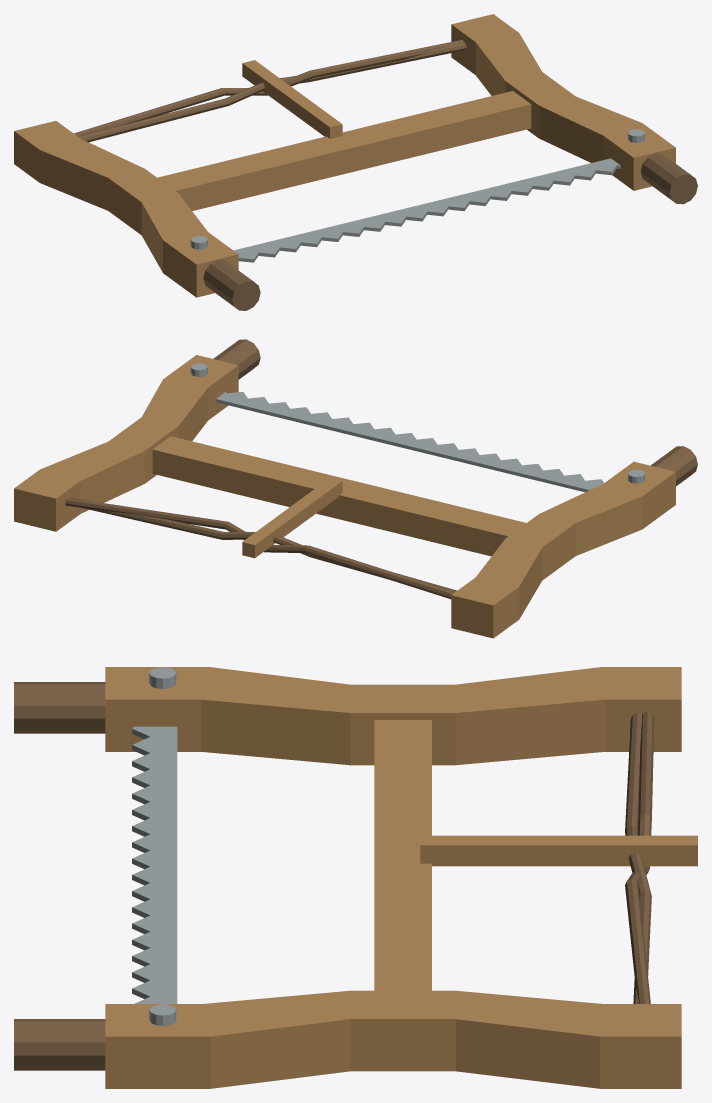
3 views of the same model, one above another, from view 1: azimuth 30°, elevation 25°; view 2: azimuth 150°, elevation 25°; view 3: azimuth 270°, elevation 25° (orthographic). The views are drawn at different scales.
Visible parts, largest first — view 1: WholeMidFrameStretcher, LeftWholeWaistedStile, RightWholeWaistedStile, WholeStraightZigzagToothedBlade, WholeUpperCordStrandB, WholeUpperCordStrandA, WholeRetainedToggleStick, RightWholeEndGrip, LeftWholeEndGrip; view 2: LeftWholeWaistedStile, WholeMidFrameStretcher, RightWholeWaistedStile, WholeStraightZigzagToothedBlade, WholeUpperCordStrandB, WholeRetainedToggleStick, WholeUpperCordStrandA, RightWholeEndGrip, LeftWholeEndGrip; view 3: RightWholeWaistedStile, LeftWholeWaistedStile, WholeMidFrameStretcher, WholeStraightZigzagToothedBlade, WholeRetainedToggleStick, LeftWholeEndGrip, RightWholeEndGrip, WholeUpperCordStrandB, WholeUpperCordStrandA.
Part boxes in pixels (bbox=[...]): WholeMidFrameStretcher: bbox=[157, 91, 531, 210]; LeftWholeWaistedStile: bbox=[14, 121, 238, 297]; RightWholeWaistedStile: bbox=[451, 14, 675, 190]; WholeStraightZigzagToothedBlade: bbox=[233, 158, 620, 262]; WholeUpperCordStrandB: bbox=[74, 40, 463, 136]; WholeUpperCordStrandA: bbox=[78, 42, 466, 142]; WholeRetainedToggleStick: bbox=[242, 60, 342, 138]; RightWholeEndGrip: bbox=[640, 153, 697, 204]; LeftWholeEndGrip: bbox=[203, 260, 260, 310]; LeftWholeWaistedStile: bbox=[451, 461, 675, 638]; WholeMidFrameStretcher: bbox=[152, 436, 526, 556]; RightWholeWaistedStile: bbox=[14, 355, 238, 531]; WholeStraightZigzagToothedBlade: bbox=[216, 391, 603, 492]; WholeUpperCordStrandB: bbox=[65, 498, 454, 599]; WholeRetainedToggleStick: bbox=[242, 477, 342, 558]; WholeUpperCordStrandA: bbox=[69, 497, 456, 591]; RightWholeEndGrip: bbox=[213, 339, 260, 379]; LeftWholeEndGrip: bbox=[651, 446, 697, 486]; RightWholeWaistedStile: bbox=[105, 990, 681, 1088]; LeftWholeWaistedStile: bbox=[105, 667, 681, 765]; WholeMidFrameStretcher: bbox=[374, 720, 431, 990]; WholeStraightZigzagToothedBlade: bbox=[132, 726, 177, 1003]; WholeRetainedToggleStick: bbox=[420, 835, 697, 866]; LeftWholeEndGrip: bbox=[14, 682, 105, 733]; RightWholeEndGrip: bbox=[14, 1019, 105, 1070]; WholeUpperCordStrandB: bbox=[625, 711, 654, 1003]; WholeUpperCordStrandA: bbox=[625, 712, 651, 1003].
Size of the model in its own units: 0.91 by 0.073 by 0.712.
